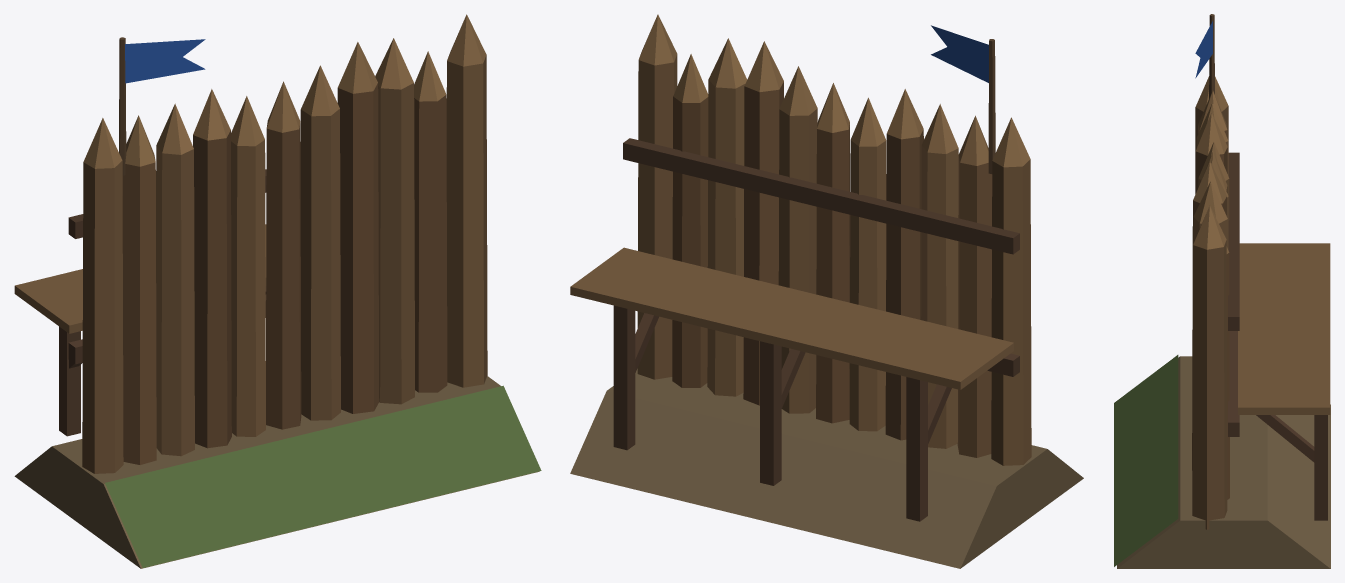
Rendered from palisade.glb.
The picture shows the model from 3 angles, left to right: view 1: azimuth 30°, elevation 25°; view 2: azimuth 150°, elevation 25°; view 3: azimuth 270°, elevation 25°; orthographic projection. The views are drawn at different scales.
Parts seen in each view (by area): view 1: palisade; view 2: palisade; view 3: palisade.
Boxes of the visible parts, x1,y1,x2,y2 form: palisade: (14, 14, 541, 568); palisade: (570, 14, 1083, 568); palisade: (1114, 14, 1330, 568).
Bounding box in the file's own units: 4.01 × 4.6 × 2.23.
